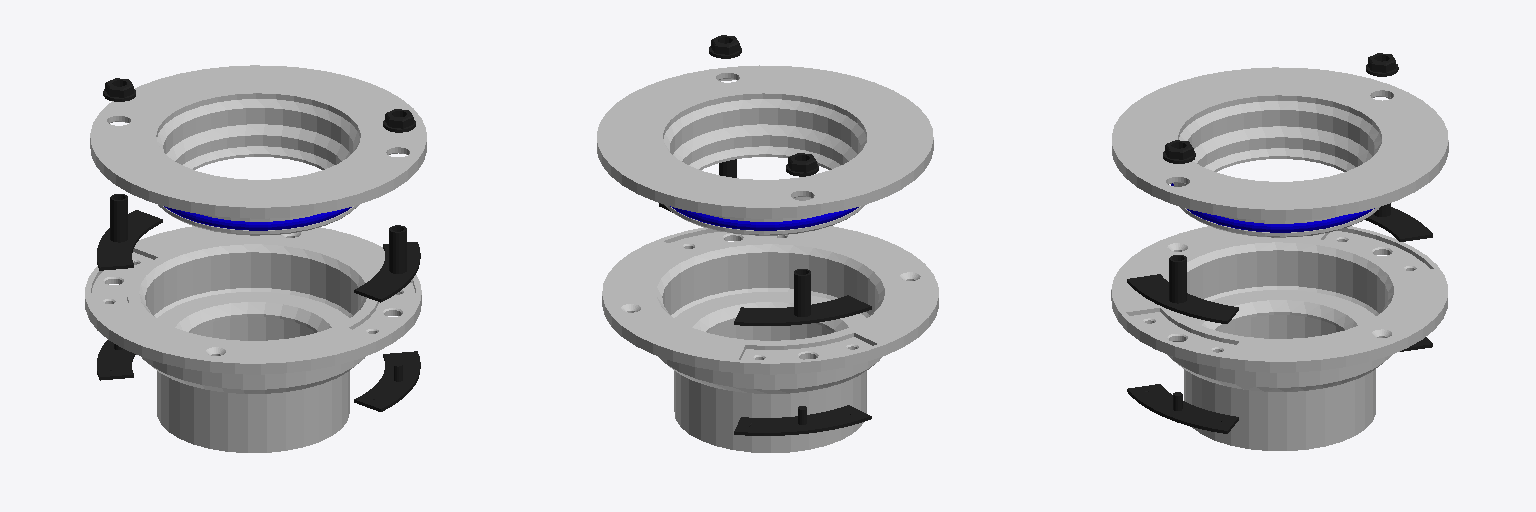
Rendered from webvis.obj.
The picture shows the model from 3 angles: view 1: azimuth 30°, elevation 25°; view 2: azimuth 150°, elevation 25°; view 3: azimuth 270°, elevation 25°; orthographic projection.
Visible parts, largest first — view 1: female_flange, male_flange, Tube_3, Tube_1, Tube, gasket, Tube_2, Tube.1, Tube.1_1, nut_1, nut; view 2: female_flange, male_flange, Tube_2, Tube_1, gasket, Tube.1_1, nut, nut_1; view 3: female_flange, male_flange, Tube_3, Tube, gasket, Tube_1, Tube.1, nut, nut_1.
Boxes of the visible parts, <box> form: female_flange: <box>85,226,421,452</box>; male_flange: <box>90,65,426,235</box>; Tube_3: <box>354,351,420,411</box>; Tube_1: <box>97,210,162,270</box>; Tube: <box>354,242,420,302</box>; gasket: <box>164,206,351,230</box>; Tube_2: <box>97,340,135,380</box>; Tube.1: <box>389,225,406,273</box>; Tube.1_1: <box>110,194,127,242</box>; nut_1: <box>103,78,135,101</box>; nut: <box>383,109,415,132</box>; female_flange: <box>602,226,938,452</box>; male_flange: <box>597,65,933,235</box>; Tube_2: <box>734,405,871,435</box>; Tube_1: <box>734,295,871,325</box>; gasket: <box>670,206,858,230</box>; Tube.1_1: <box>794,269,810,316</box>; nut: <box>709,35,741,58</box>; nut_1: <box>786,153,818,176</box>; female_flange: <box>1111,226,1447,450</box>; male_flange: <box>1112,67,1448,237</box>; Tube_3: <box>1127,384,1238,433</box>; Tube: <box>1127,274,1238,323</box>; gasket: <box>1171,183,1374,232</box>; Tube_1: <box>1365,207,1432,241</box>; Tube.1: <box>1169,255,1186,303</box>; nut: <box>1163,140,1195,163</box>; nut_1: <box>1366,53,1398,76</box>.
Bounding box in the file's own units: 12.53 × 12.56 × 12.31.